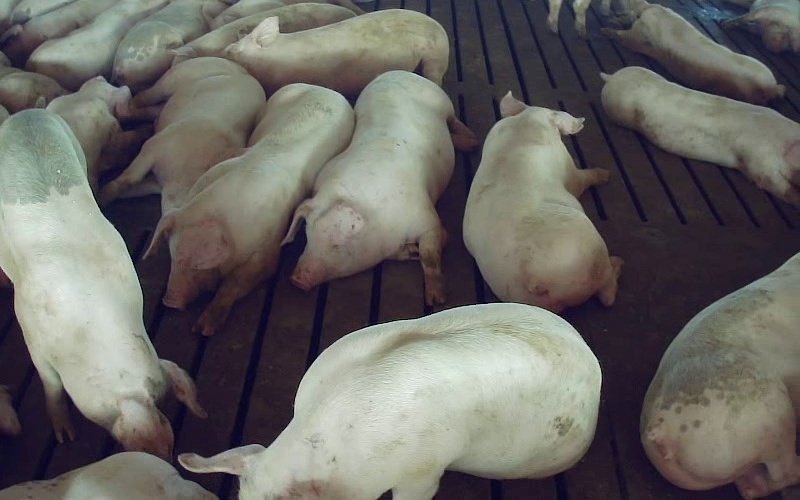pig: (179, 303, 600, 499), (146, 84, 353, 335), (280, 71, 477, 305), (640, 253, 799, 499), (463, 92, 621, 311), (601, 67, 799, 204), (101, 57, 265, 214), (224, 9, 448, 95), (603, 2, 783, 103), (47, 76, 148, 191), (173, 3, 356, 64)
